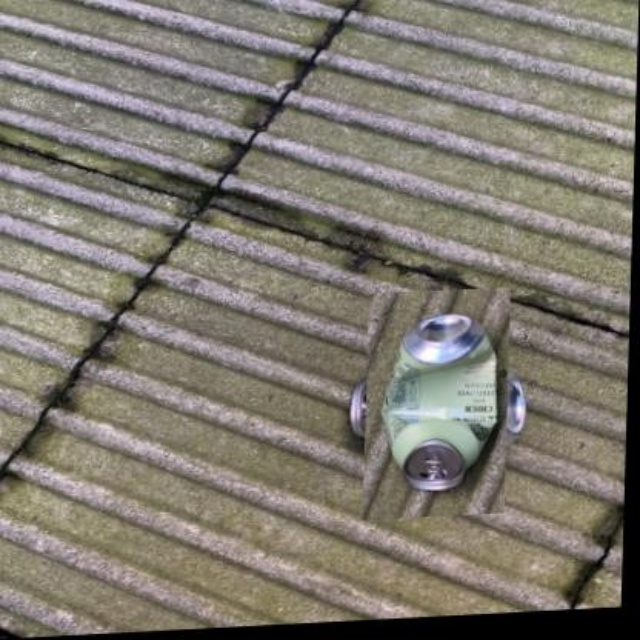trash: (382, 314, 495, 489)
